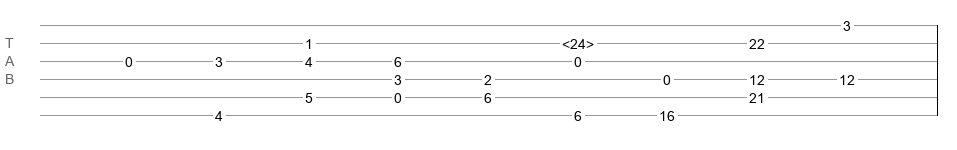0: (125, 54, 133, 64), (394, 90, 402, 100), (574, 54, 582, 64), (663, 72, 671, 82)
1: (305, 36, 313, 46)
12: (749, 72, 765, 82), (839, 72, 855, 82)
16: (659, 108, 675, 118)
2: (484, 72, 492, 82)
21: (749, 90, 765, 100)
22: (749, 36, 765, 46)
3: (215, 54, 223, 64), (394, 72, 402, 82), (843, 18, 851, 28)
4: (215, 108, 223, 118), (305, 54, 313, 64)
5: (305, 90, 313, 100)
6: (394, 54, 402, 64), (484, 90, 492, 100), (574, 108, 582, 118)
harmonic: (562, 36, 594, 46)
